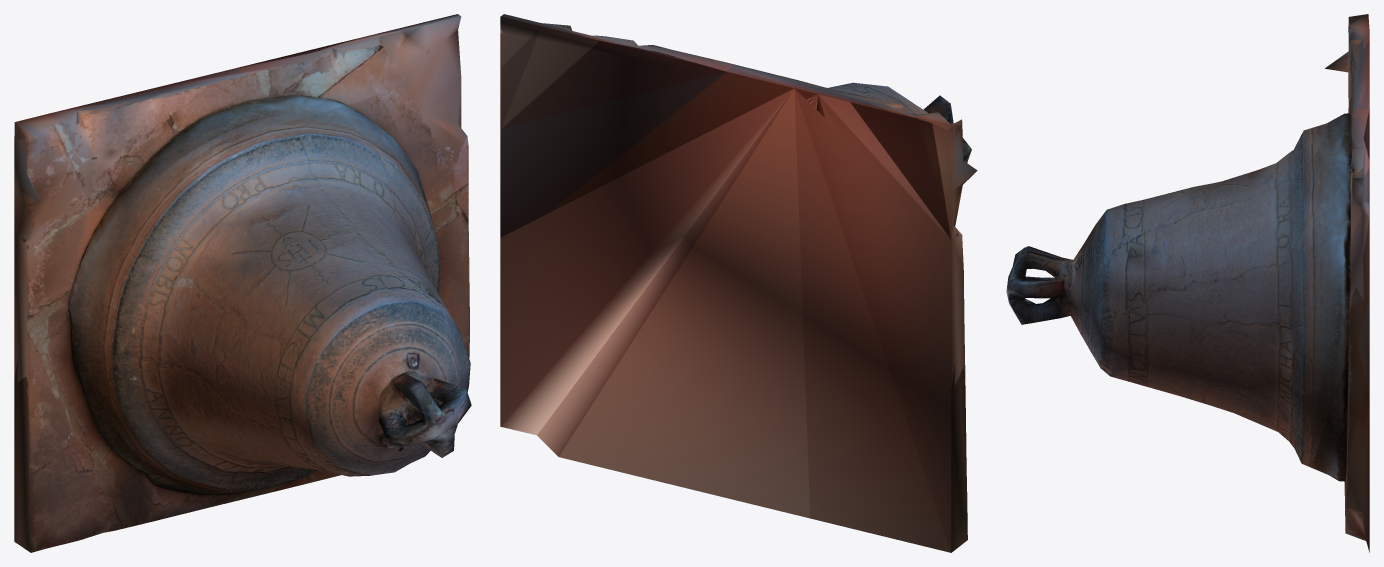
File: sinoMissoes.glb
3 renders of one model, left to right at view 1: azimuth 30°, elevation 25°; view 2: azimuth 150°, elevation 25°; view 3: azimuth 270°, elevation 25°, orthographic. The views are drawn at different scales.
Parts seen in each view (by area): view 1: Mesh_0_Part_0; view 2: Mesh_0_Part_0; view 3: Mesh_0_Part_0.
Part boxes in pixels (bbox=[...]): Mesh_0_Part_0: bbox=[14, 14, 471, 552]; Mesh_0_Part_0: bbox=[500, 14, 977, 552]; Mesh_0_Part_0: bbox=[1006, 14, 1369, 552].
Bounding box in the file's own units: 33.37 × 30.16 × 27.21.
Materials: 1 (1 with a texture image).
